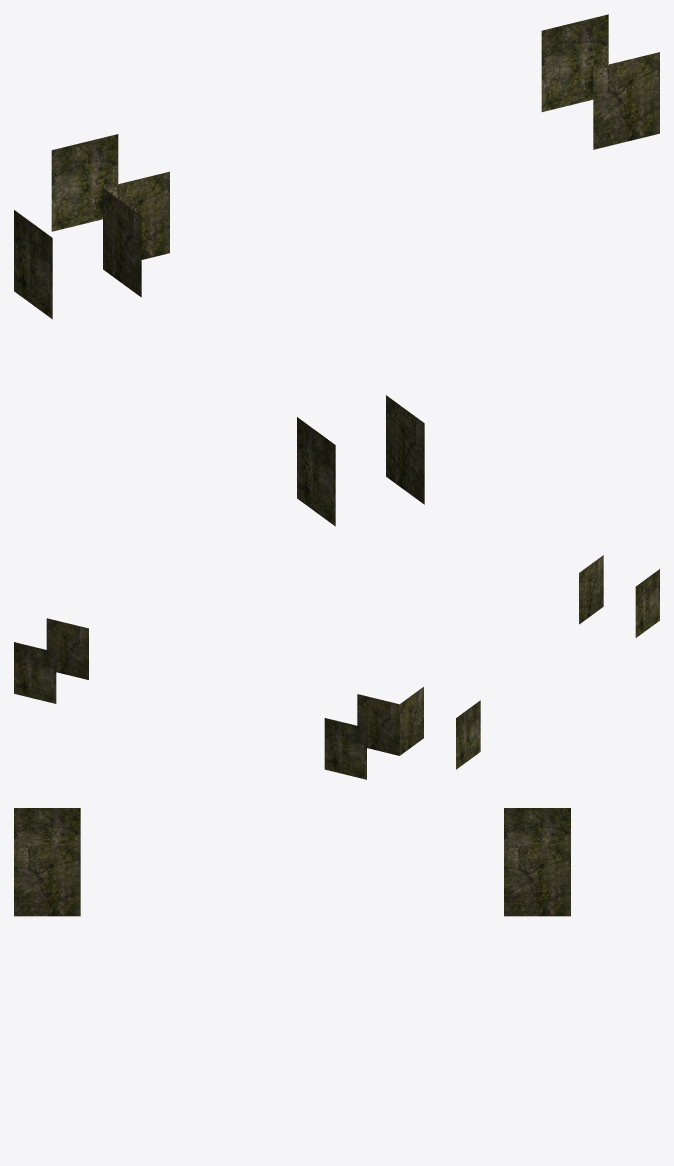
Rendered from woods5Trim.gltf.
3 renders of one model, top to bottom at view 1: azimuth 30°, elevation 25°; view 2: azimuth 150°, elevation 25°; view 3: azimuth 270°, elevation 25°, orthographic. The views are drawn at different scales.
Visible parts, largest first — view 1: woods5Trim; view 2: woods5Trim; view 3: woods5Trim.
Part boxes in pixels (x1=…): woods5Trim: x1=14, y1=14, x2=659, y2=526; woods5Trim: x1=14, y1=555, x2=659, y2=779; woods5Trim: x1=14, y1=808, x2=570, y2=916.
Size of the model in its own units: 29 by 3.5 by 29.
1 material, 1 textured.
